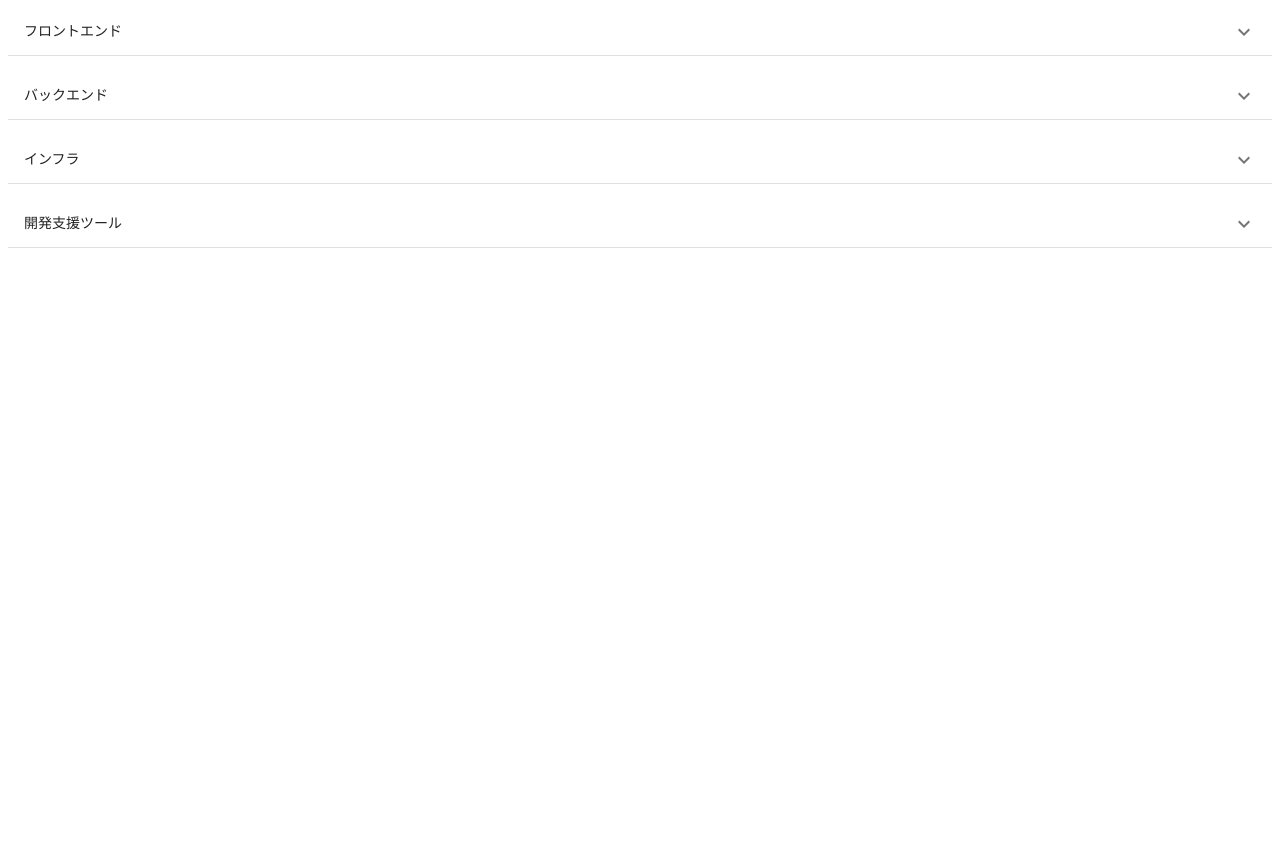
TechStackFieldList › プロジェクトで選んでいる値を、対応する欄に表示すること
The image size is (1280, 855).
Click the button "フロントエンド": {"x": 73, "y": 31} left=8, top=8, right=1272, bottom=56
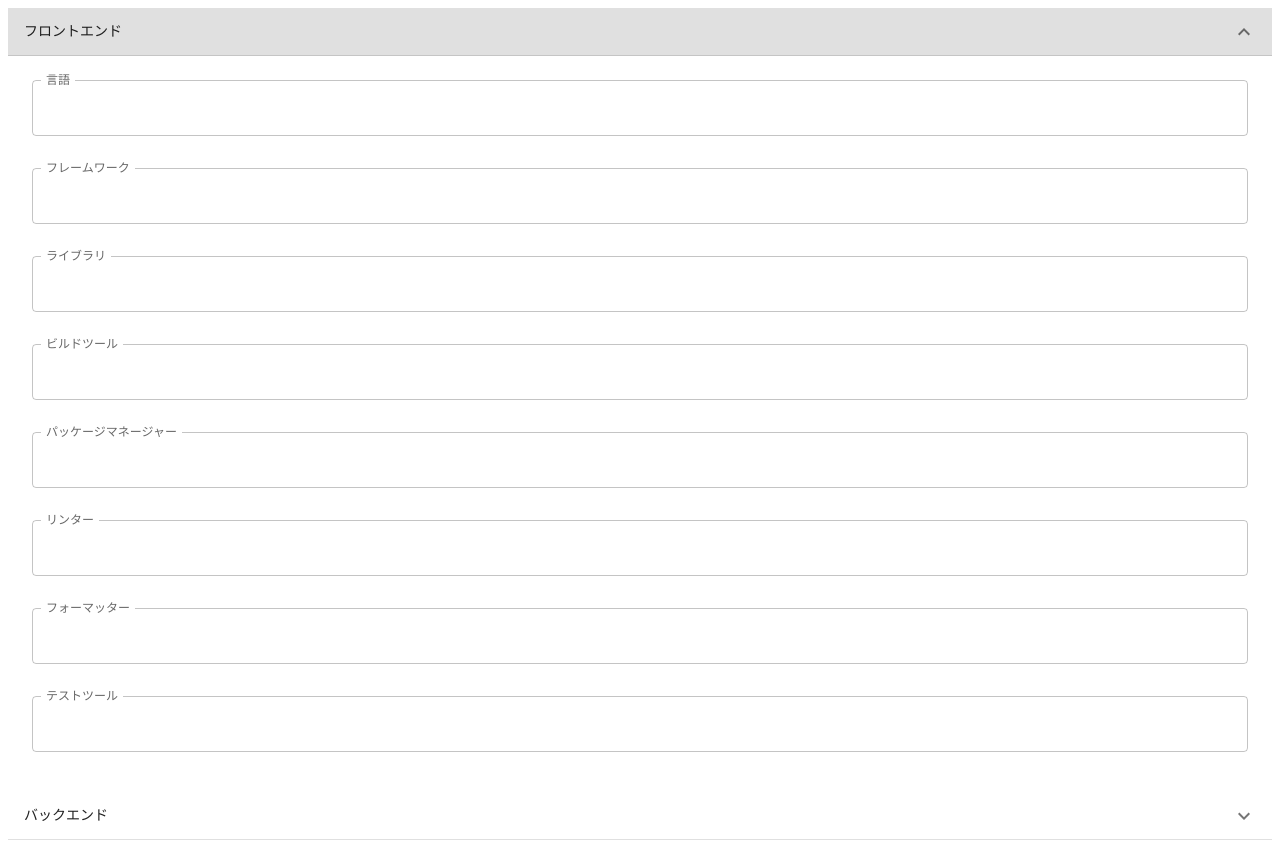
Expected: the button "Java" is not shown
Expected: the button "フロントエンド" is expanded, left=8, top=8, right=1272, bottom=56
Click the button "バックエンド": {"x": 66, "y": 815} left=8, top=792, right=1272, bottom=840
(page scrolled)
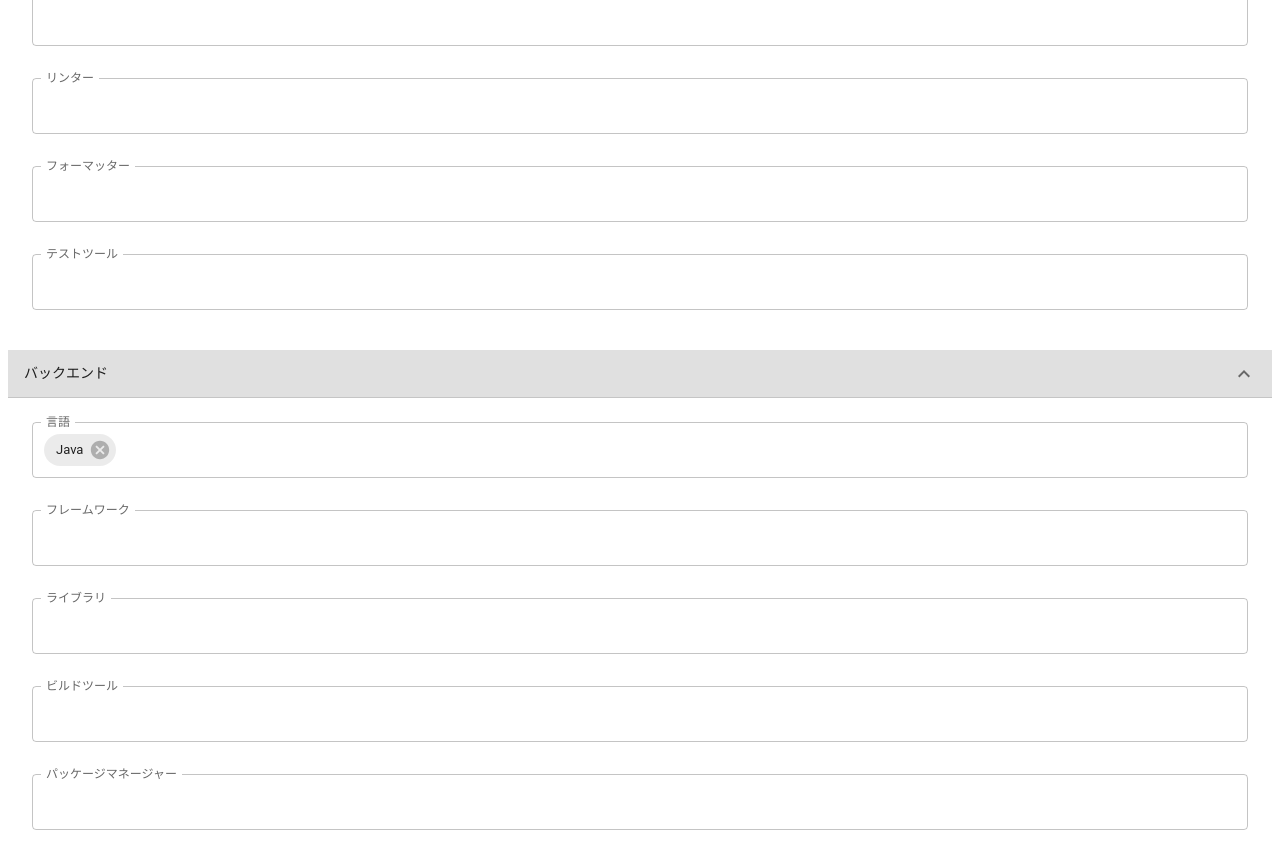
Expected: the button "バックエンド" is expanded, left=8, top=350, right=1272, bottom=398
Expected: the button "Java" is shown, left=44, top=434, right=116, bottom=466
